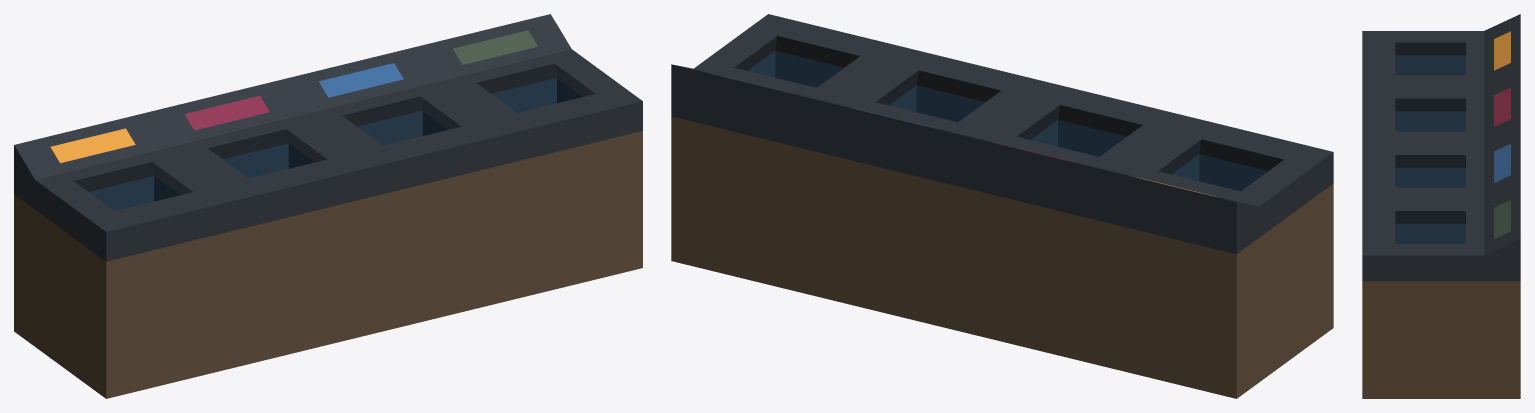
The model's file is wastebasket.fbx.
3 views of the same model, side by side, from view 1: azimuth 30°, elevation 25°; view 2: azimuth 150°, elevation 25°; view 3: azimuth 270°, elevation 25° (orthographic). The views are drawn at different scales.
Visible parts, largest first — view 1: wastebasket; view 2: wastebasket; view 3: wastebasket.
Boxes of the visible parts, x1,y1,x2,y2 form: wastebasket: (14,14,642,398); wastebasket: (671,14,1333,398); wastebasket: (1362,14,1520,398).
Bounding box in the file's own units: 1034 × 344 × 308.
